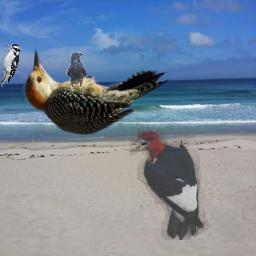Crow: (66, 52, 87, 94)
Woodpecker: (12, 44, 177, 137), (129, 126, 210, 240), (1, 42, 22, 88)
